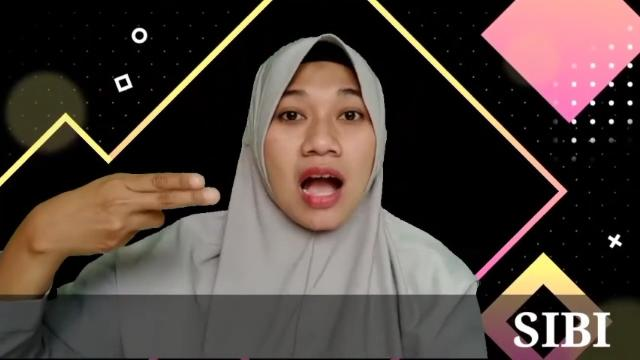H: (33, 172, 221, 256)
